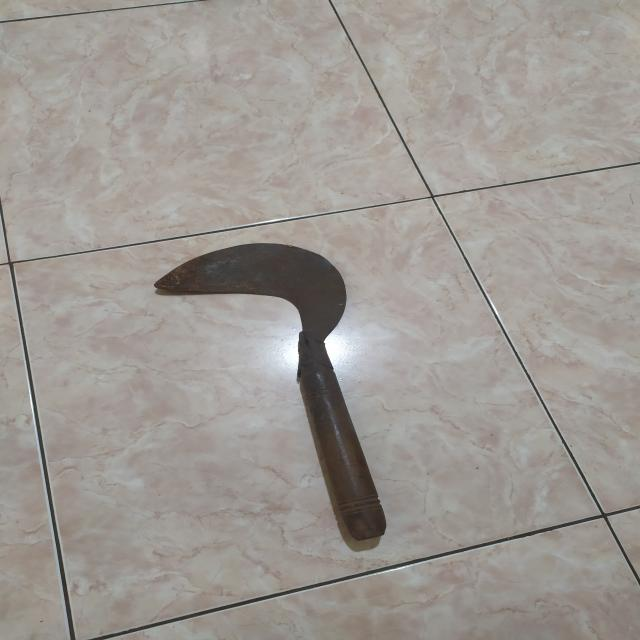Celurit: (155, 241, 385, 543)
